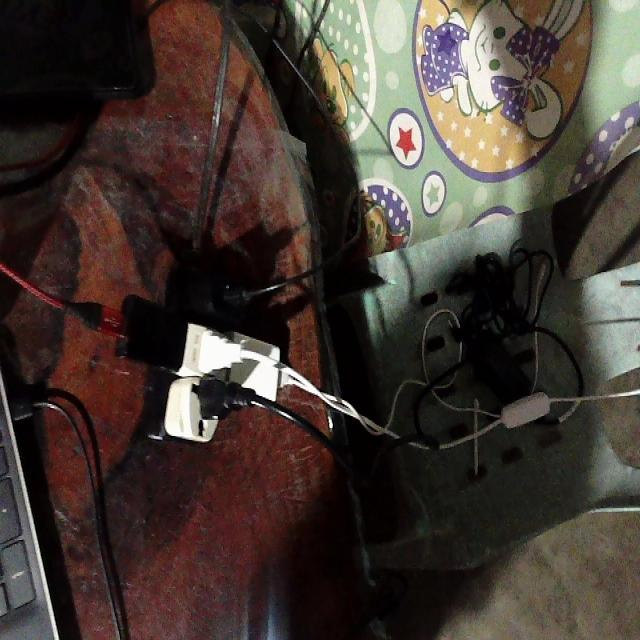-: (70, 253, 297, 438)
